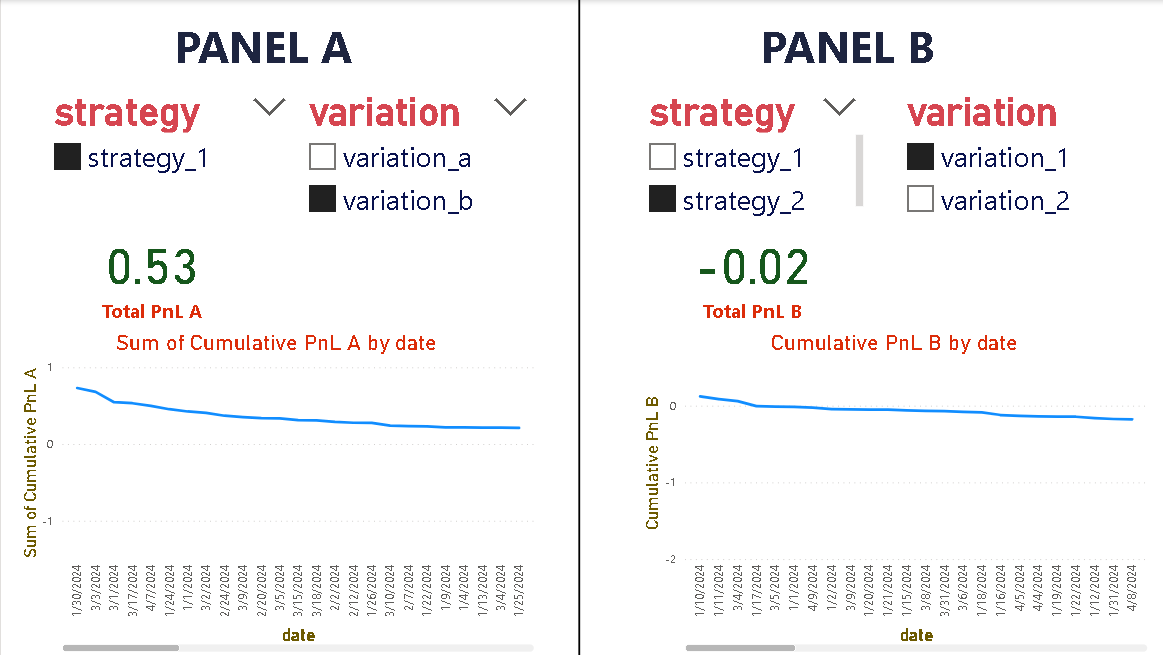

Layout of this report page (visuals, bound fields, positions):
{"tool":"powerbi","page":{"name":"Page 1","canvas":[1280,720],"ordinal":0},"visuals":[{"type":"slicer","fields":{"Values":["Selector_A.strategy"]},"box":[45,91.7,280,165],"z":0},{"type":"slicer","fields":{"Values":["Selector_A.variation"]},"box":[325,91.7,265,256.7],"z":1000},{"type":"slicer","fields":{"Values":["Selector_B.strategy"]},"box":[698.3,91.7,253.3,151.7],"z":2000},{"type":"card","fields":{"Values":["Combined_A.Total PnL A"]},"box":[45,243.3,241.7,115],"z":3000},{"type":"slicer","fields":{"Values":["Combined_B.variation"]},"box":[981.7,91.7,266.7,270],"z":4000},{"type":"card","fields":{"Values":["Combined_B.Total PnL B"]},"box":[703.3,243.3,241.7,115],"z":5000},{"type":"lineChart","fields":{"Category":["Combined_A.date"],"Y":["Sum(Combined_A.Cumulative PnL A)"]},"box":[15,361.7,575,358.3],"z":6000},{"type":"lineChart","fields":{"Category":["Combined_B.date"],"Y":["Combined_B.Cumulative PnL B"]},"box":[698.3,361.7,565,358.3],"z":7000},{"type":"textbox","box":[136.7,11.7,300,80],"z":8000},{"type":"textbox","box":[780,11.7,300,80],"z":9000},{"type":"shape","box":[586.7,0,95,720],"z":9001}]}

Visuals, with their boxes in screenshot pixels (x1, y1, x2, y2), scaled from the page's 1280x720 canvas onto the 1163x655 screenshot:
slicer - Selector_A.strategy: 41, 83, 295, 234
slicer - Selector_A.variation: 295, 83, 536, 317
slicer - Selector_B.strategy: 634, 83, 865, 221
card - Combined_A.Total PnL A: 41, 221, 260, 326
slicer - Combined_B.variation: 892, 83, 1134, 329
card - Combined_B.Total PnL B: 639, 221, 859, 326
lineChart - Combined_A.date x Sum(Combined_A.Cumulative PnL A): 14, 329, 536, 654
lineChart - Combined_B.date x Combined_B.Cumulative PnL B: 634, 329, 1148, 654
textbox: 124, 11, 397, 83
textbox: 709, 11, 981, 83
shape: 533, 0, 619, 654
